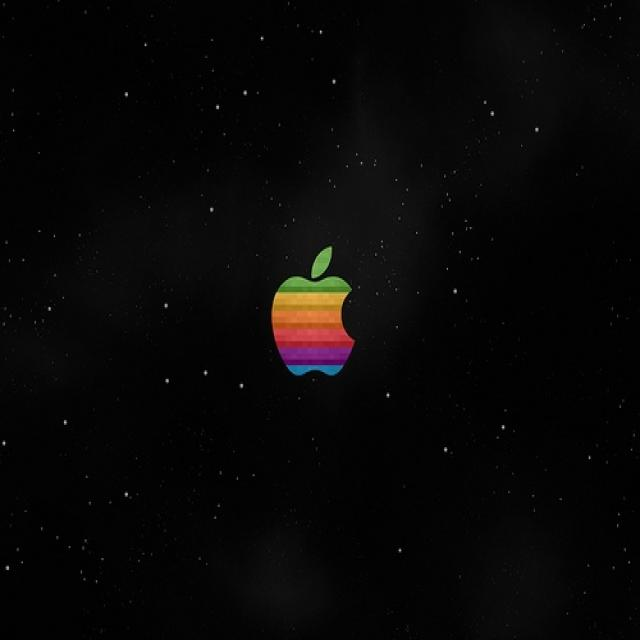apple: (269, 236, 363, 380)
